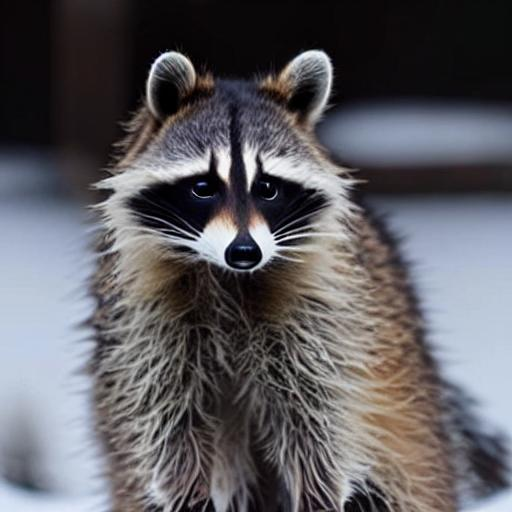raccoon: (79, 40, 472, 507)
